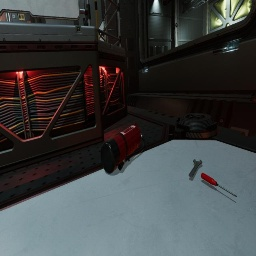EmergencyPhone ,: (17, 13, 25, 21)
FireAlarm ,: (27, 21, 31, 23)
FireExtinguisher ]: (100, 122, 146, 174)
